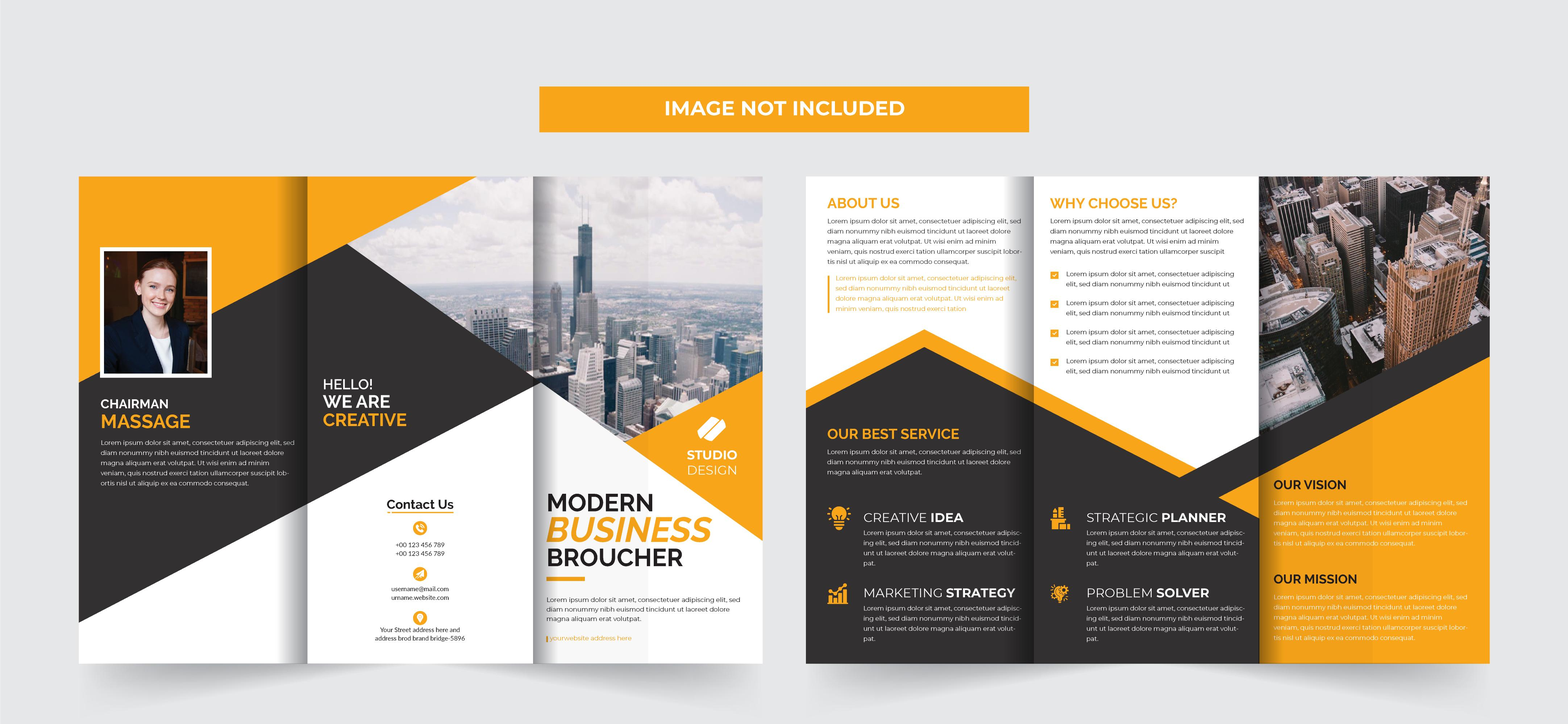paper: (77, 175, 768, 667), (802, 175, 1490, 667)
